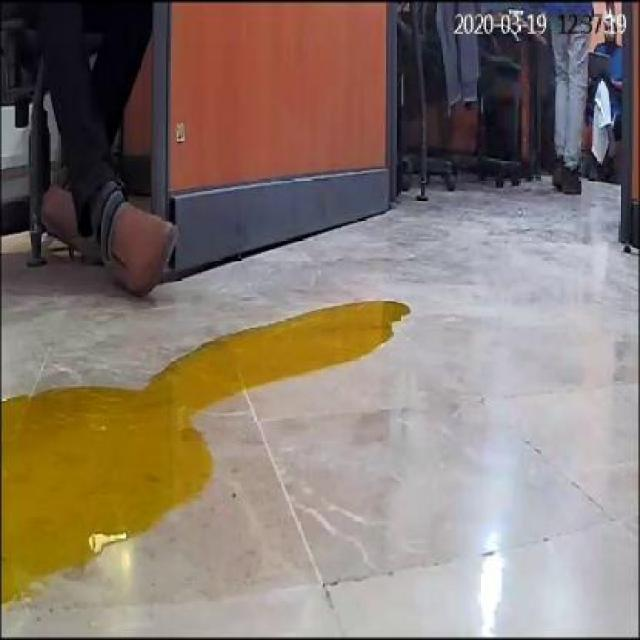spill: (0, 302, 409, 602)
